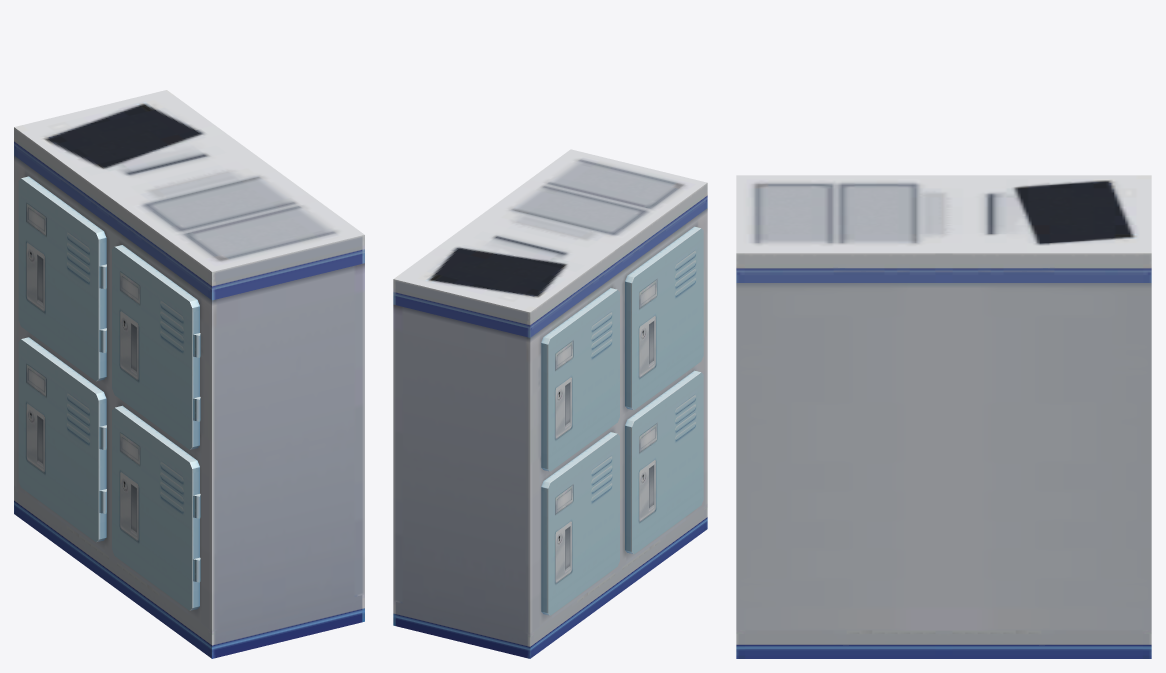
The model's file is my_abydosclassroom_01_cabinet_03.glb.
The picture shows the model from 3 angles, left to right: view 1: azimuth 30°, elevation 25°; view 2: azimuth 150°, elevation 25°; view 3: azimuth 270°, elevation 25°; orthographic projection. The views are drawn at different scales.
Parts seen in each view (by area): view 1: my_abydosclassroom_01_cabinet_03; view 2: my_abydosclassroom_01_cabinet_03; view 3: my_abydosclassroom_01_cabinet_03.
Boxes of the visible parts, box(x1,y1,x2,y2) form: my_abydosclassroom_01_cabinet_03: box(14, 90, 364, 658); my_abydosclassroom_01_cabinet_03: box(393, 149, 707, 658); my_abydosclassroom_01_cabinet_03: box(736, 175, 1151, 658).
Bounding box in the file's own units: 0.00281 × 0.00928 × 0.006.
2 materials, 2 textured.
